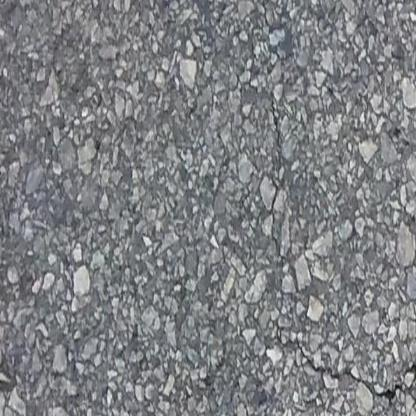Cracks: (263, 285, 416, 416)
